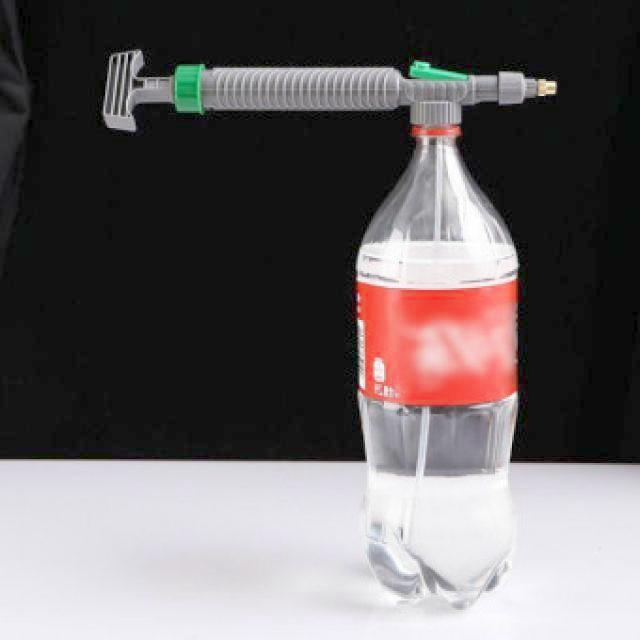bottle: (356, 102, 518, 610)
